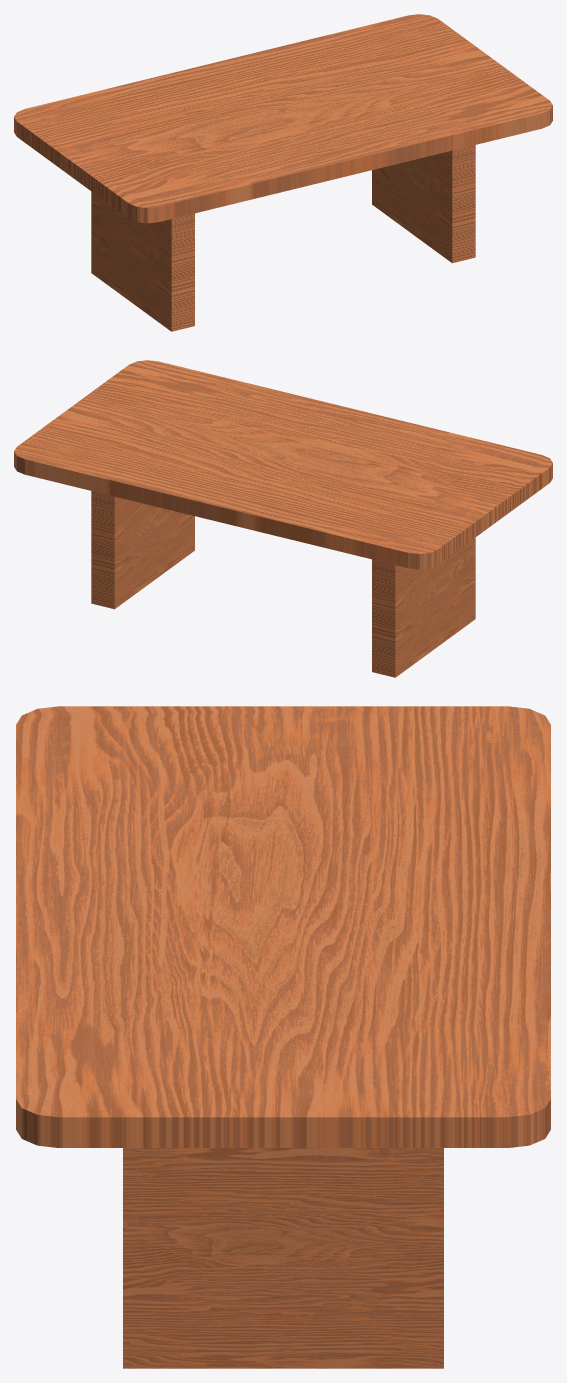
3 renders of one model, top to bottom at view 1: azimuth 30°, elevation 25°; view 2: azimuth 150°, elevation 25°; view 3: azimuth 270°, elevation 25°, orthographic. The views are drawn at different scales.
Visible parts, largest first — view 1: MC-42; view 2: MC-42; view 3: MC-42.
Boxes of the visible parts, x1=… form: MC-42: x1=14, y1=14, x2=552, y2=331; MC-42: x1=14, y1=360, x2=552, y2=677; MC-42: x1=16, y1=706, x2=550, y2=1368.
Bounding box in the file's own units: 200 × 70 × 110.
1 material, 1 textured.
